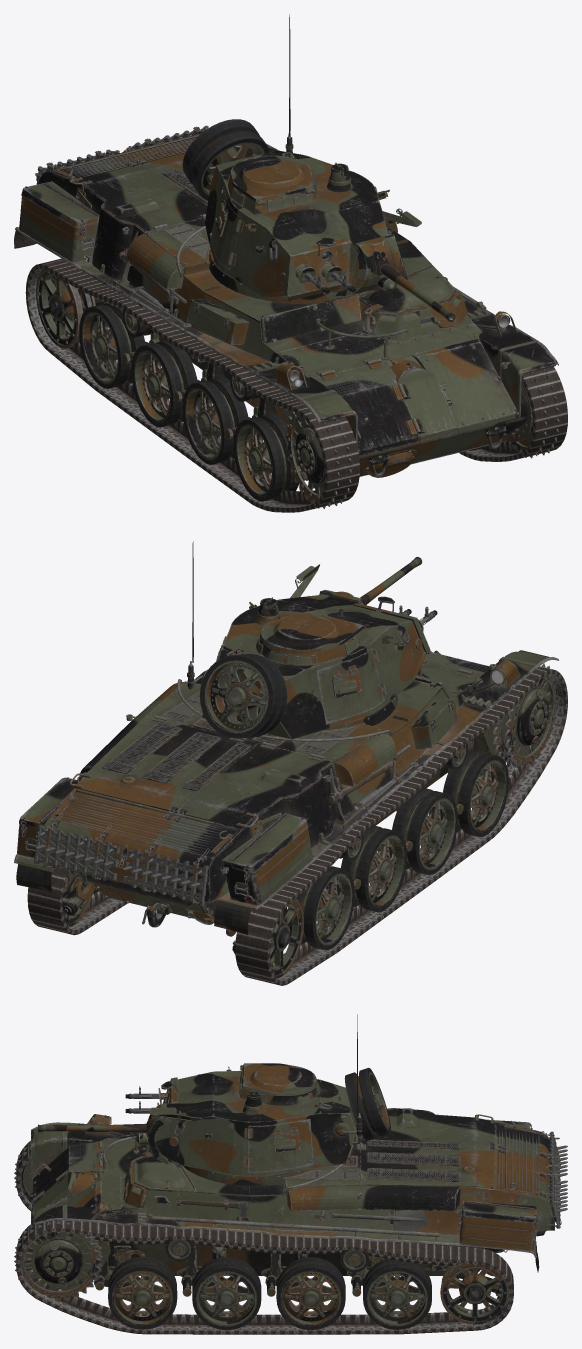
File: Strv_m_40L.obj
3 views of the same model, one above another, from view 1: azimuth 30°, elevation 25°; view 2: azimuth 150°, elevation 25°; view 3: azimuth 270°, elevation 25° (orthographic). The views are drawn at different scales.
Parts seen in each view (by area): view 1: vehicle#x_root_58, vehicle#bone_turret_0, vehicle#track_r_39, vehicle#hatch_02_11, vehicle#ex_decor_r_03_31, vehicle#wheel_r_01_45, vehicle#wheel_r_03_49, vehicle#wheel_r_02_47, vehicle#wheel_r_04_51, vehicle#track_l_55, vehicle#ex_armor_03_7, vehicle#hatch_06_1 (+8 smaller); view 2: vehicle#x_root_58, vehicle#track_r_39, vehicle#bone_turret_0, vehicle#hatch_03_12, vehicle#hatch_02_11, vehicle#ex_armor_03_7, vehicle#ex_decor_r_03_31, vehicle#wheel_r_02_47, vehicle#wheel_r_01_45, vehicle#wheel_r_03_49, vehicle#wheel_r_front_18, vehicle#wheel_r_04_51 (+11 smaller); view 3: vehicle#x_root_58, vehicle#track_l_55, vehicle#bone_turret_0, vehicle#hatch_03_12, vehicle#wheel_l_front_17, vehicle#wheel_l_01_41, vehicle#wheel_l_03_36, vehicle#wheel_l_02_38, vehicle#wheel_l_04_34, vehicle#ex_decor_l_04_28, vehicle#hatch_02_11, vehicle#wheel_l_drive_43 (+15 smaller).
Boxes of the visible parts, x1,y1,x2,y2 form: vehicle#x_root_58: (14,127,558,477); vehicle#bone_turret_0: (205,133,421,303); vehicle#track_r_39: (25,258,359,512); vehicle#hatch_02_11: (69,163,207,231); vehicle#ex_decor_r_03_31: (19,181,99,262); vehicle#wheel_r_01_45: (233,413,300,501); vehicle#wheel_r_03_49: (131,340,197,427); vehicle#wheel_r_02_47: (182,377,248,464); vehicle#wheel_r_04_51: (79,303,145,388); vehicle#track_l_55: (459,366,567,461); vehicle#ex_armor_03_7: (182,119,269,200); vehicle#hatch_06_1: (229,155,313,204); vehicle#x_root_58: (14,650,558,936); vehicle#track_r_39: (235,666,567,985); vehicle#bone_turret_0: (187,564,430,739); vehicle#hatch_03_12: (69,715,257,813); vehicle#hatch_02_11: (177,742,332,828); vehicle#ex_armor_03_7: (199,654,287,738); vehicle#ex_decor_r_03_31: (222,813,312,905); vehicle#wheel_r_02_47: (392,787,457,874); vehicle#wheel_r_01_45: (443,749,508,836); vehicle#wheel_r_03_49: (341,825,406,912); vehicle#wheel_r_front_18: (493,663,557,769); vehicle#wheel_r_04_51: (288,866,354,950); vehicle#x_root_58: (29,1114,560,1287); vehicle#track_l_55: (16,1220,513,1334); vehicle#bone_turret_0: (149,1065,362,1185); vehicle#hatch_03_12: (360,1139,495,1190); vehicle#wheel_l_front_17: (14,1220,102,1301); vehicle#wheel_l_01_41: (108,1256,177,1329); vehicle#wheel_l_03_36: (276,1257,345,1329); vehicle#wheel_l_02_38: (192,1257,261,1329); vehicle#wheel_l_04_34: (363,1258,431,1329); vehicle#ex_decor_l_04_28: (455,1200,542,1251); vehicle#hatch_02_11: (360,1108,495,1147); vehicle#wheel_l_drive_43: (440,1263,509,1324).
Size of the model in its own units: 2.1 by 2.91 by 5.02.
11 materials, 11 textured.
